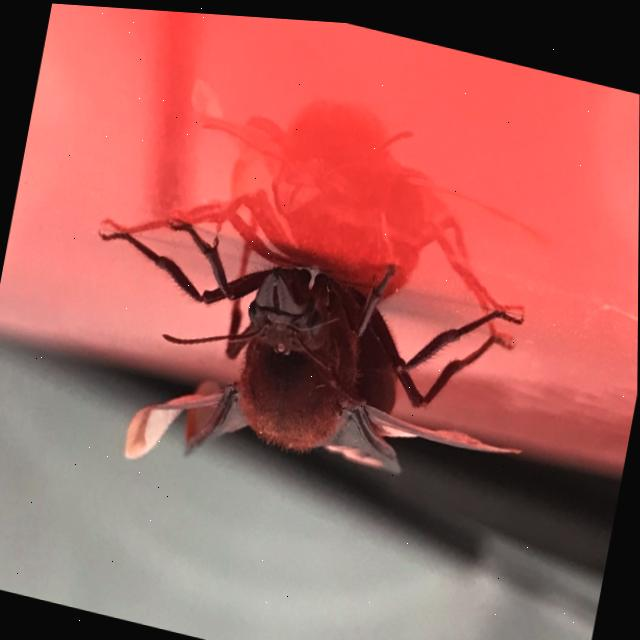Alive-Female-Alate: (60, 191, 550, 544)
